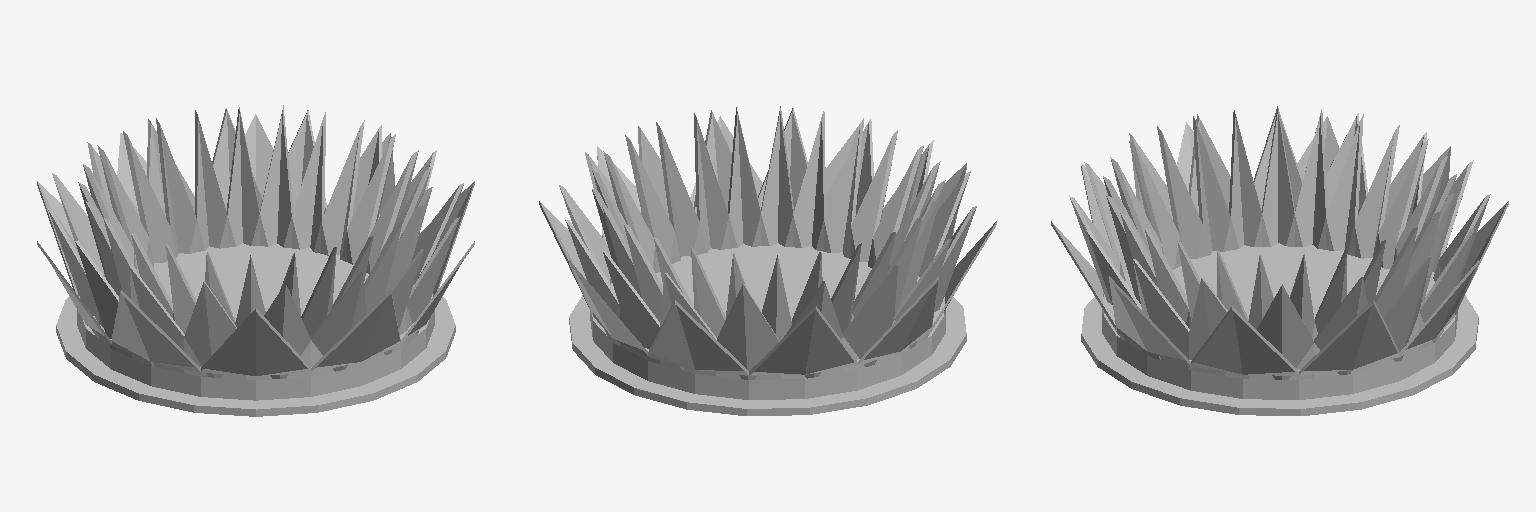
File: portal_abrir_000030.obj
3 renders of one model, left to right at view 1: azimuth 30°, elevation 25°; view 2: azimuth 150°, elevation 25°; view 3: azimuth 270°, elevation 25°, orthographic.
Visible parts, largest first — view 1: pCylinder1, Cylinder.001, Cylinder; view 2: pCylinder1, Cylinder.001, Cylinder; view 3: pCylinder1, Cylinder.001, Cylinder.
Boxes of the visible parts, box(x1,y1,x2,y2) form: pCylinder1: box(37, 114, 474, 416); Cylinder.001: box(78, 105, 432, 337); Cylinder: box(48, 108, 463, 380); pCylinder1: box(539, 116, 996, 415); Cylinder.001: box(592, 106, 945, 340); Cylinder: box(559, 108, 976, 379); pCylinder1: box(1051, 116, 1508, 415); Cylinder.001: box(1103, 107, 1456, 340); Cylinder: box(1069, 106, 1490, 379).
Size of the model in its own units: 5.54 by 2.08 by 5.64.